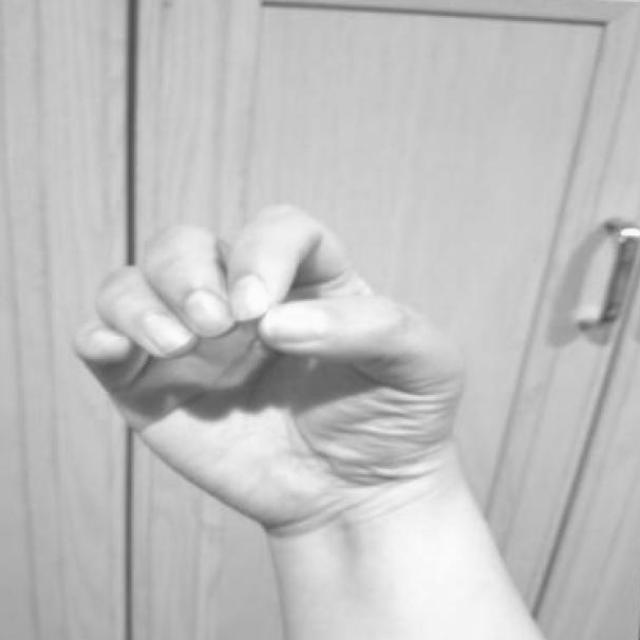O: (63, 186, 500, 584)
